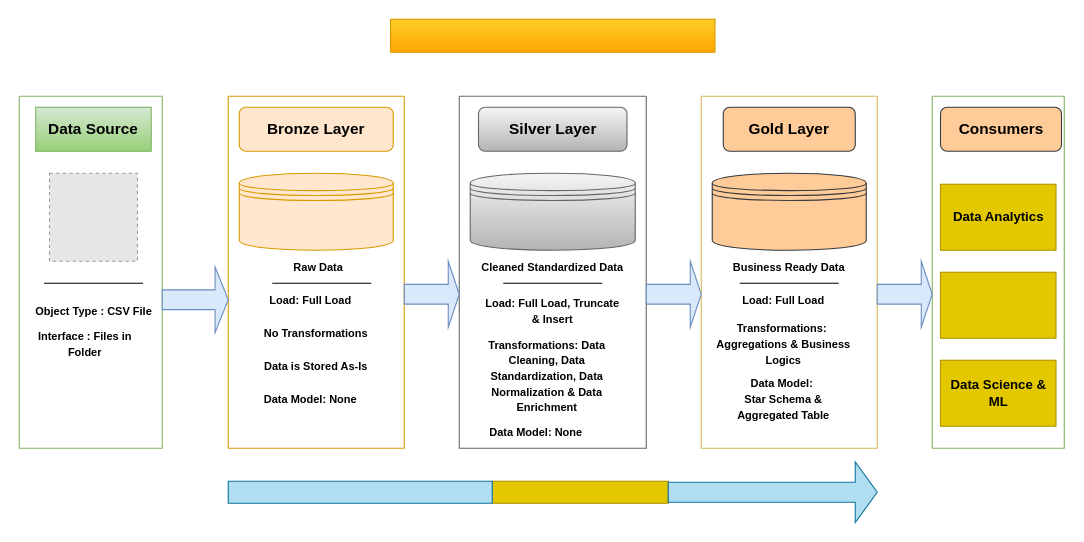
Image size: 1084x542. Some labels were removed from this diagram. Grey dashed boxes stand in for pictures. Each missing label, with the centre of its shape:
"BI & Reporting" belongs at pixel 997 304.
"Data Quality" belongs at pixel 579 491.
"Medallion Architecture For PC Sales" belongs at pixel 552 35.
